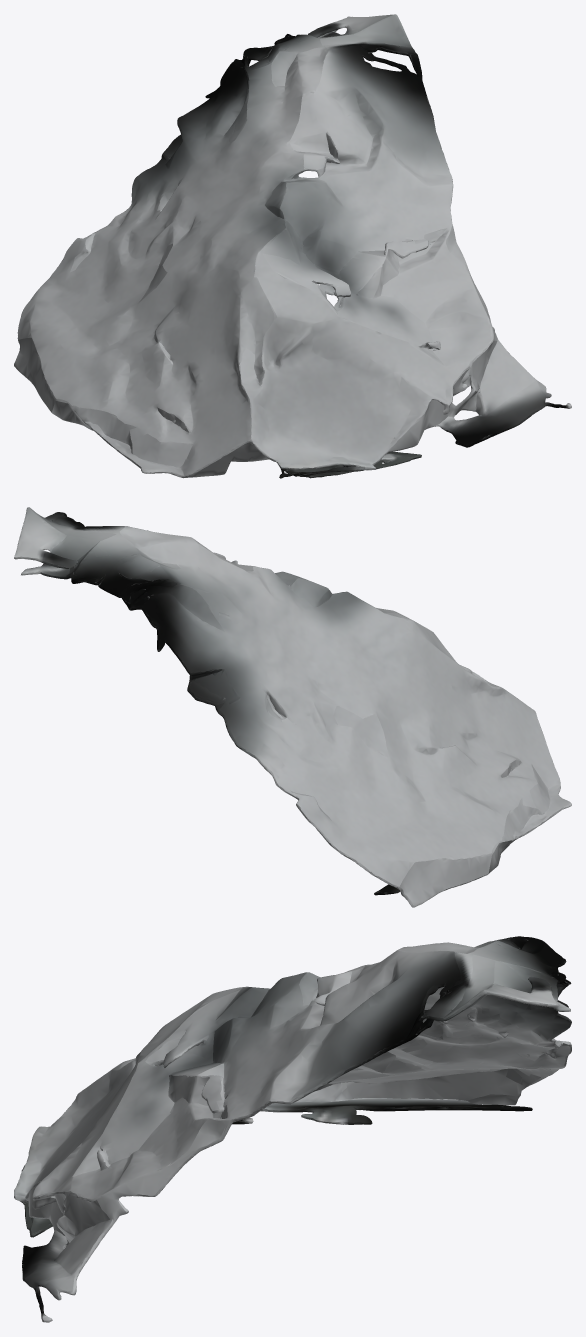
3 renders of one model, top to bottom at view 1: azimuth 30°, elevation 25°; view 2: azimuth 150°, elevation 25°; view 3: azimuth 270°, elevation 25°, orthographic. The views are drawn at different scales.
Parts seen in each view (by area): view 1: world; view 2: world; view 3: world.
Part boxes in pixels (bbox=[...]): world: bbox=[14, 14, 571, 478]; world: bbox=[14, 507, 571, 907]; world: bbox=[14, 936, 571, 1322].
Bounding box in the file's own units: 0.18 × 0.1229 × 0.1798.
Materials: 1 (1 with a texture image).
